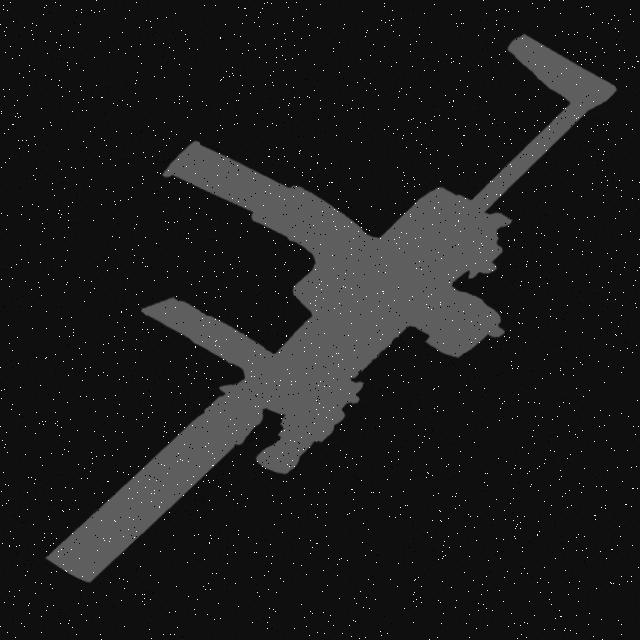firearm: (39, 0, 626, 640)
